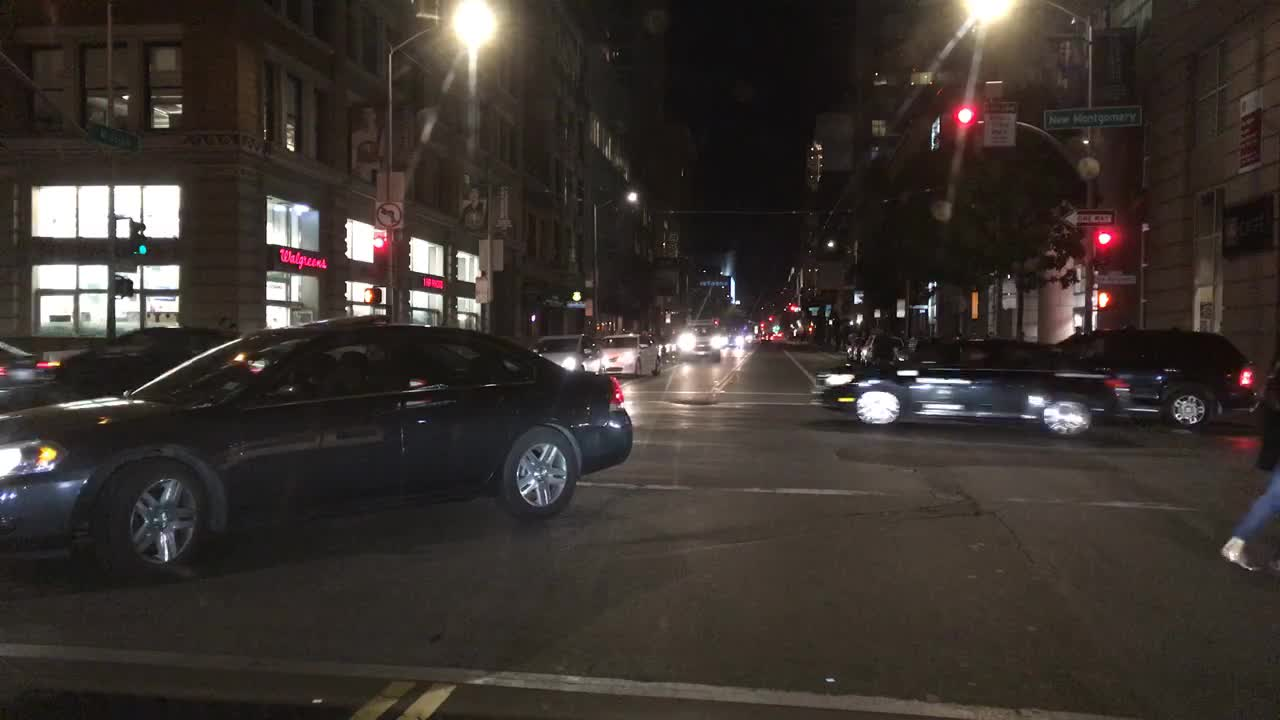car: (3, 317, 636, 587), (812, 333, 1137, 440), (1050, 328, 1257, 430), (5, 324, 241, 396), (527, 331, 602, 375), (0, 337, 62, 387), (598, 330, 659, 380), (674, 317, 723, 364), (855, 330, 906, 372), (843, 328, 867, 370), (651, 330, 674, 362), (723, 325, 748, 353), (743, 320, 759, 356)
person: (1217, 339, 1279, 575)
traffic light: (370, 236, 391, 278), (127, 220, 149, 259), (1091, 230, 1118, 251), (955, 107, 981, 127), (112, 276, 134, 299), (1100, 290, 1116, 315), (364, 287, 383, 305)
traffic sign: (1040, 108, 1143, 127), (85, 123, 146, 155), (983, 101, 1021, 149), (1066, 208, 1137, 230), (376, 201, 405, 226)
